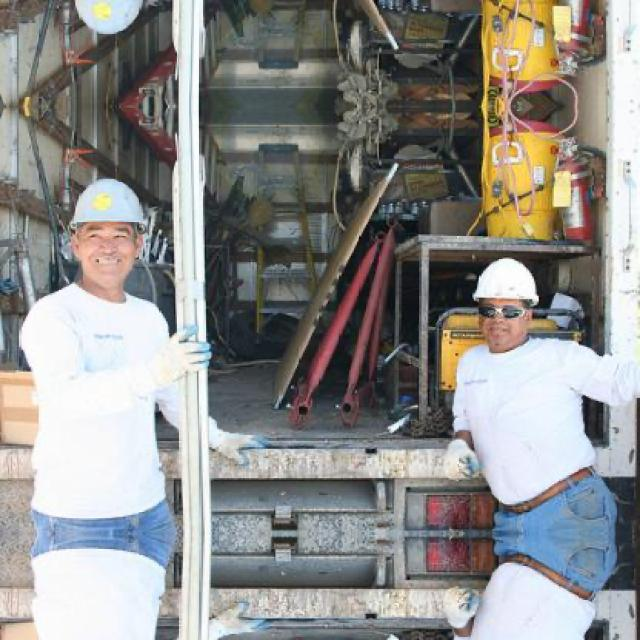con casco: (408, 251, 574, 391), (35, 161, 201, 297)
